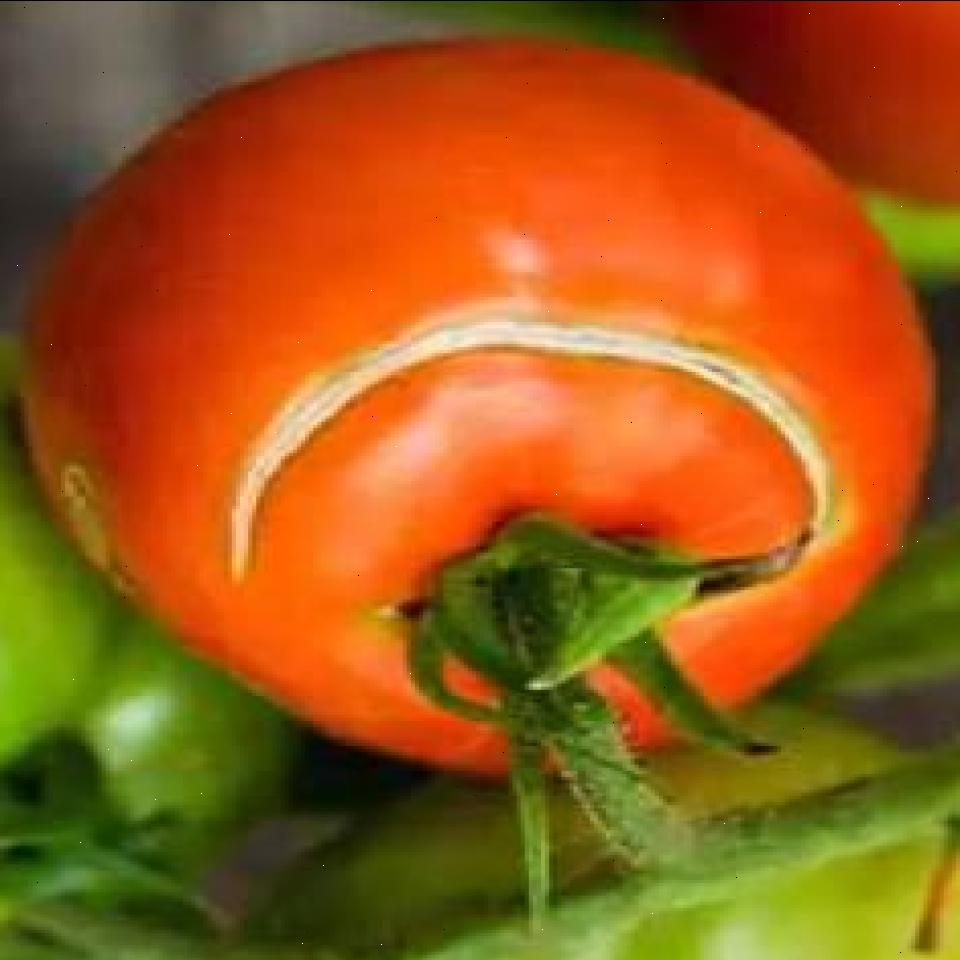Cracking: (184, 309, 852, 587)
